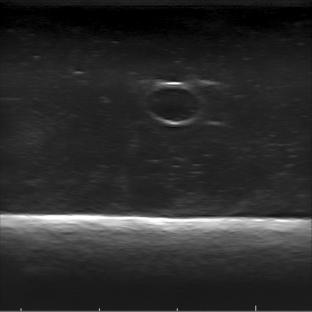vessel: (143, 81, 203, 126)
